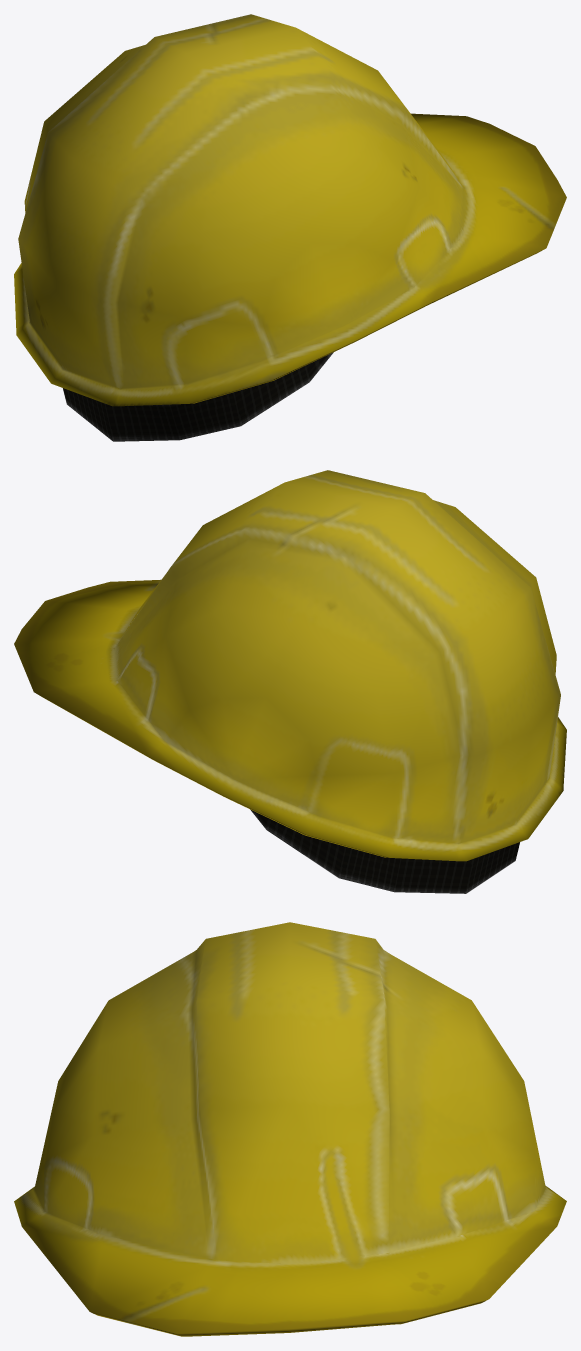
The model's file is hardHat.glb.
3 views of the same model, one above another, from view 1: azimuth 30°, elevation 25°; view 2: azimuth 150°, elevation 25°; view 3: azimuth 270°, elevation 25° (orthographic). The views are drawn at different scales.
Parts seen in each view (by area): view 1: hardHat; view 2: hardHat; view 3: hardHat.
Boxes of the visible parts, box(x1,y1,x2,y2) form: hardHat: box(14, 14, 566, 441); hardHat: box(14, 470, 566, 893); hardHat: box(14, 922, 566, 1336).
Size of the model in its own units: 1.21 by 0.8209 by 1.02.
Materials: 1 (1 with a texture image).
